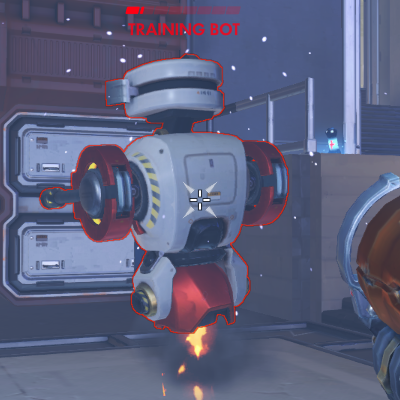hpbar: (125, 6, 241, 15)
